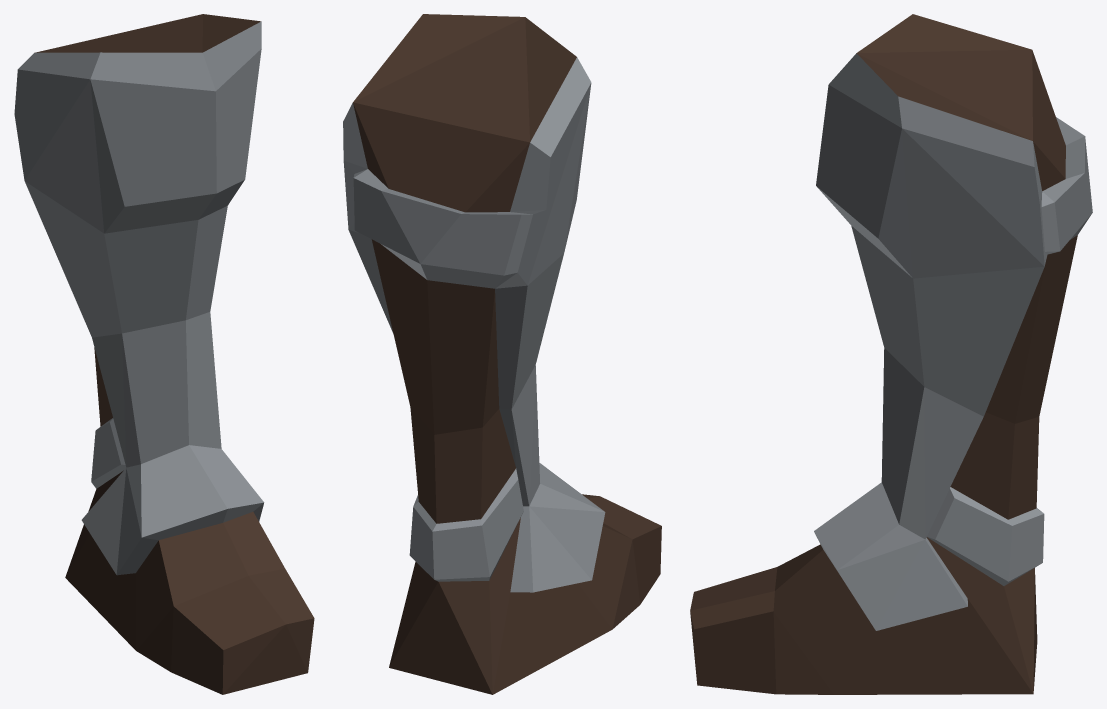
Rendered from Chr_LegRight_Female_15_Static.fbx.
3 renders of one model, left to right at view 1: azimuth 30°, elevation 25°; view 2: azimuth 150°, elevation 25°; view 3: azimuth 270°, elevation 25°, orthographic. The views are drawn at different scales.
Parts seen in each view (by area): view 1: Chr_LegRight_Female_15_Static; view 2: Chr_LegRight_Female_15_Static; view 3: Chr_LegRight_Female_15_Static.
Part boxes in pixels (x1,y1,x2,y2): Chr_LegRight_Female_15_Static: [14, 14, 314, 694]; Chr_LegRight_Female_15_Static: [343, 14, 661, 694]; Chr_LegRight_Female_15_Static: [690, 14, 1092, 694].
Bounding box in the file's own units: 0.1444 × 0.4046 × 0.2396.
